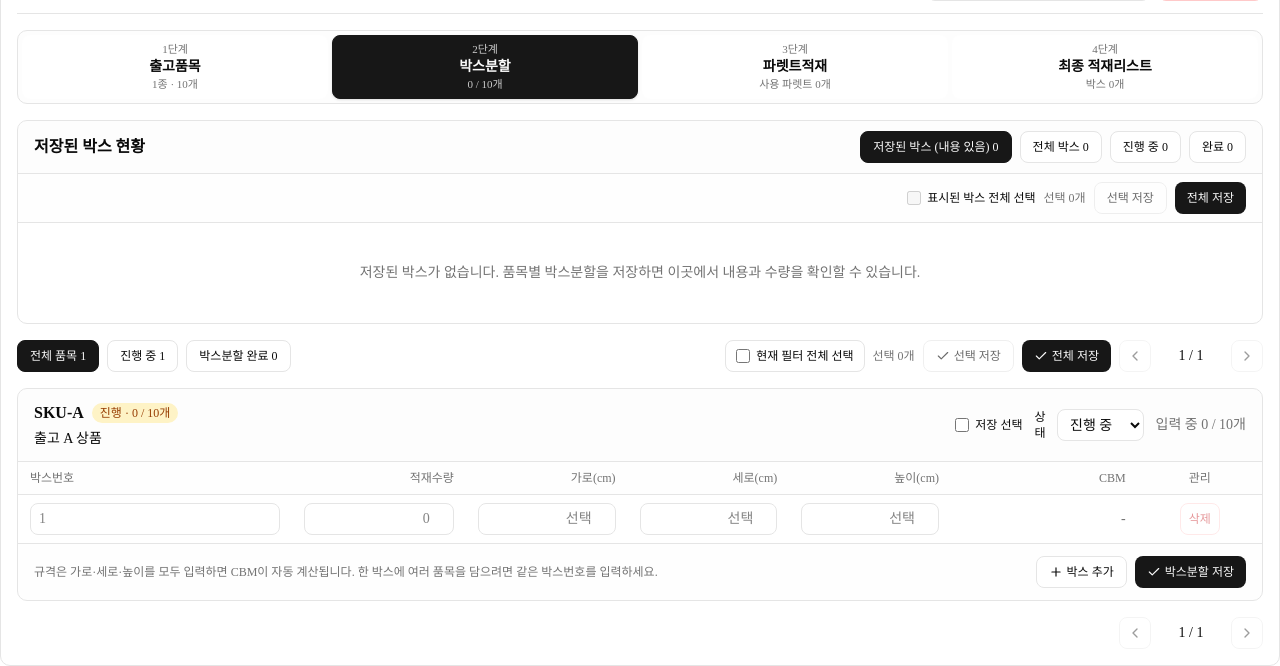
ChinaShipmentsBoard › leaves every newly added box number blank and hints at numeric numbering
(page scrolled)
Check: the field with placeholder "1" is empty, box 30,503 -> 280,535
Click the button "박스 추가". click: coordinates (1081, 572)
box: 1036,556 -> 1127,588
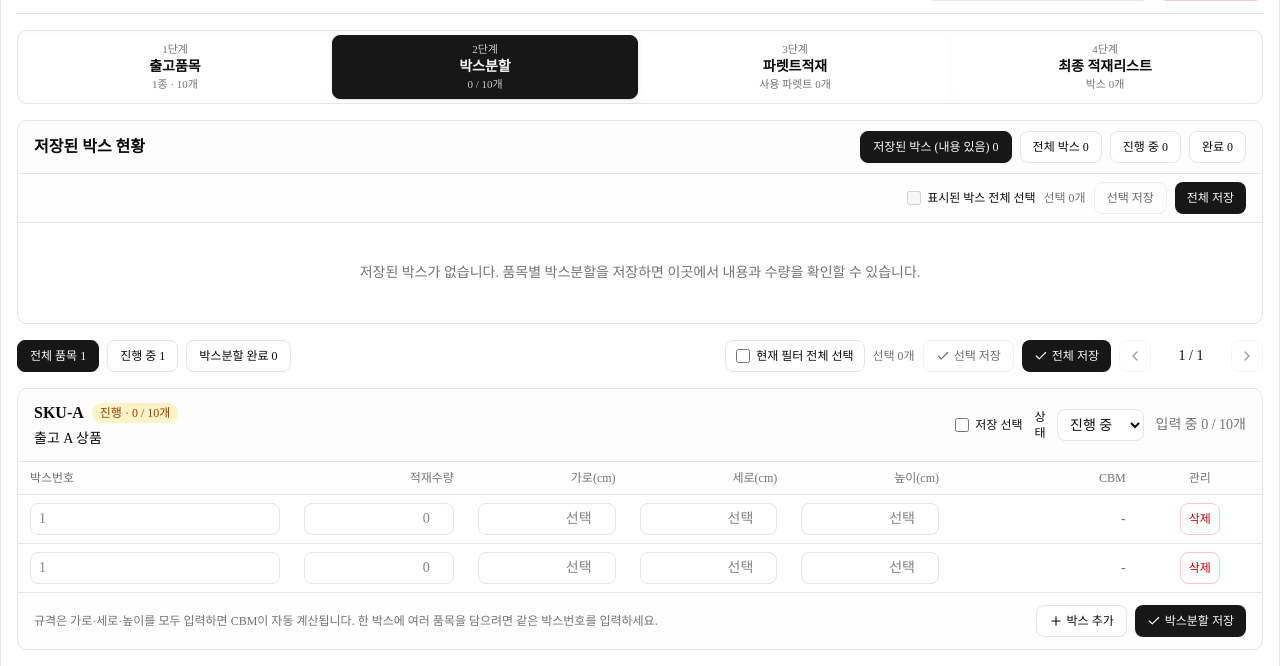
Check: the number of fields with placeholder "1" is 2, box 30,503 -> 280,535; 30,552 -> 280,584
